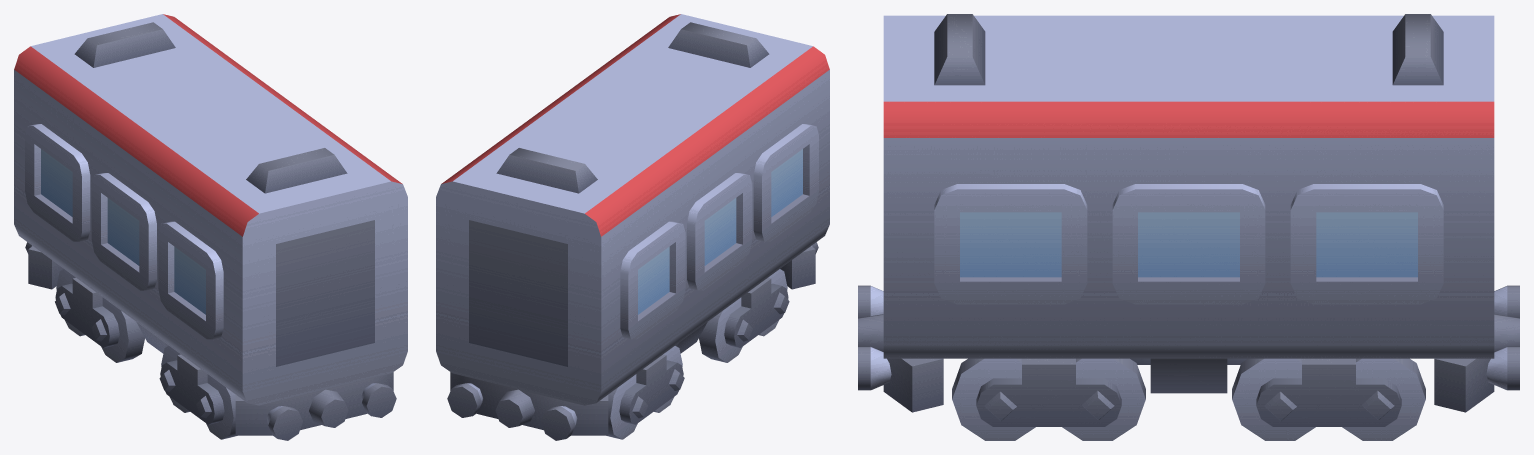
The model's file is train-electric-subway-b.glb.
The picture shows the model from 3 angles, left to right: view 1: azimuth 30°, elevation 25°; view 2: azimuth 150°, elevation 25°; view 3: azimuth 270°, elevation 25°; orthographic projection. The views are drawn at different scales.
Visible parts, largest first — view 1: train-electric-subway-b, wheels-back, wheels-front; view 2: train-electric-subway-b, wheels-front, wheels-back; view 3: train-electric-subway-b, wheels-back, wheels-front.
Part boxes in pixels (x1,y1,x2,y2): train-electric-subway-b: (14,14,407,440); wheels-back: (55,269,144,362); wheels-front: (159,346,237,439); train-electric-subway-b: (436,14,829,440); wheels-front: (699,269,789,362); wheels-back: (606,346,684,439); train-electric-subway-b: (858,14,1519,412); wheels-back: (1232,358,1425,440); wheels-front: (952,358,1145,440).
Size of the model in its own units: 1.1 by 1.57 by 2.6.
1 material, 1 textured.
